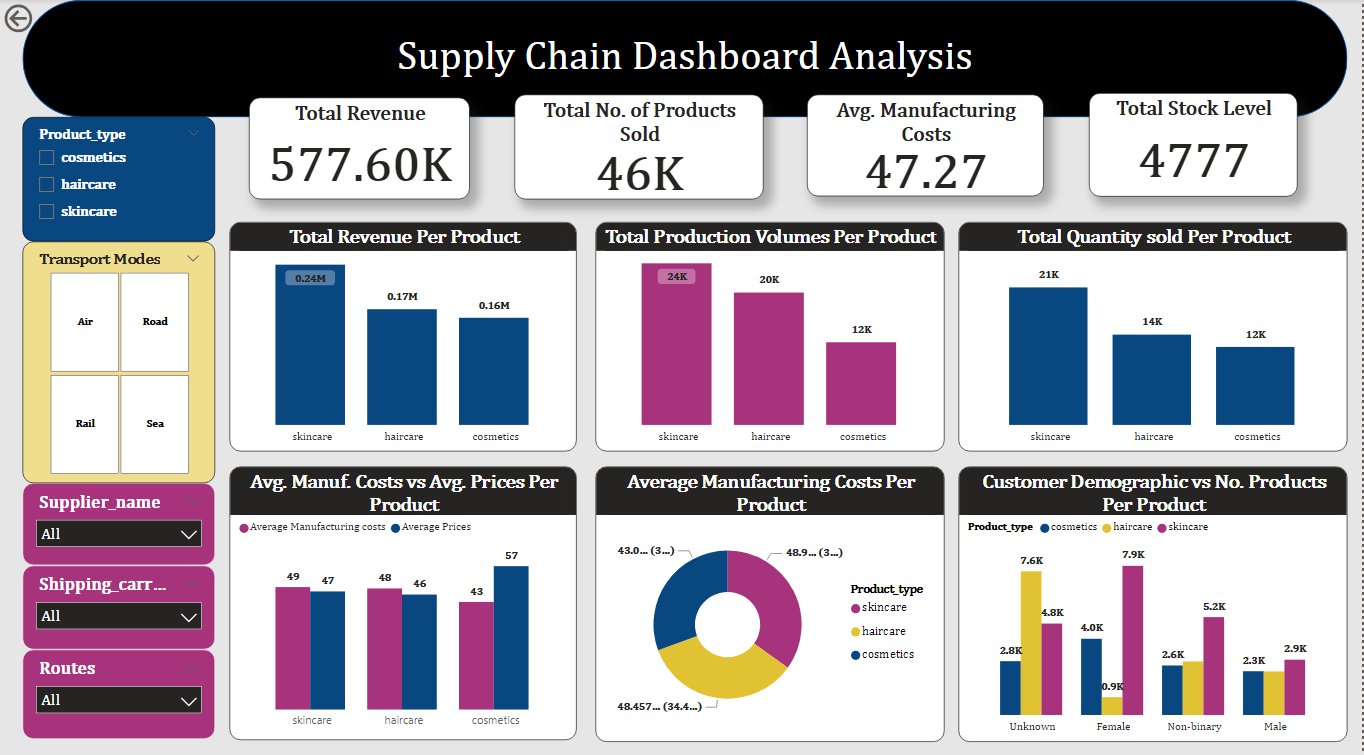

Layout of this report page (visuals, bound fields, positions):
{"tool":"powerbi","page":{"name":"Products","canvas":[1480,820],"ordinal":0},"visuals":[{"type":"shape","box":[24.8,0,1440,127.6],"z":0},{"type":"card","title":"Total Revenue","fields":{"Values":["Dax Measures.Total Revenue"]},"box":[270.5,106.7,240,110.5],"z":1000},{"type":"card","title":"Total No. of Products Sold","fields":{"Values":["Dax Measures.Total Quantity sold"]},"box":[558.7,102.9,270.5,114.3],"z":2000},{"type":"card","title":"Total Stock Level","fields":{"Values":["Dax Measures.Total Stock Level"]},"box":[1182.9,101,226.7,112.4],"z":3000},{"type":"slicer","fields":{"Values":["FactSales.Supplier_name"]},"box":[24.8,525.7,209.5,89.5],"z":4000},{"type":"slicer","fields":{"Values":["DimShipping.Shipping_carriers"]},"box":[24.8,615.2,209.5,91.4],"z":5000},{"type":"slicer","fields":{"Values":["DimShipping.Routes"]},"box":[24.8,706.7,209.5,97.1],"z":6000},{"type":"slicer","fields":{"Values":["DimShipping.Transportation_modes"]},"box":[24.8,262.9,209.5,262.9],"z":7000},{"type":"slicer","fields":{"Values":["DimProducts.Product_type"]},"box":[24.8,127.6,209.5,135.2],"z":8000},{"type":"card","title":"Avg. Manufacturing Costs","fields":{"Values":["Dax Measures.Total Manufacturing costs"]},"box":[877.5,102.9,257.1,110.5],"z":9000},{"type":"columnChart","title":"Total Revenue Per Product","fields":{"Category":["DimProducts.Product_type"],"Y":["Dax Measures.Total Revenue"]},"box":[249.5,241.9,377.1,249.5],"z":10000},{"type":"columnChart","title":"Total Production Volumes Per Product","fields":{"Category":["DimProducts.Product_type"],"Y":["Dax Measures.Total Production Volumes"]},"box":[647.6,241.9,379,249.5],"z":11000},{"type":"columnChart","title":"Total Quantity sold Per Product","fields":{"Category":["DimProducts.Product_type"],"Y":["Dax Measures.Total Quantity sold"]},"box":[1041.9,241.9,422.9,249.5],"z":12000},{"type":"clusteredColumnChart","title":"Customer Demographic vs No. Products Per Product ","fields":{"Category":["FactSales.Customer_demographics"],"Series":["DimProducts.Product_type"],"Y":["Dax Measures.Total Quantity sold"]},"box":[1041.9,506.7,422.9,299],"z":13000},{"type":"donutChart","title":"Average Manufacturing Costs Per Product","fields":{"Category":["DimProducts.Product_type"],"Y":["Dax Measures.Average Manufacturing costs"]},"box":[647.6,506.7,379,299],"z":14000},{"type":"clusteredColumnChart","title":"Avg. Manuf. Costs vs Avg. Prices Per Product","fields":{"Y":["Dax Measures.Average Manufacturing costs","Dax Measures.Average Prices"],"Category":["DimProducts.Product_type"]},"box":[249.5,506.7,377.1,297.1],"z":15000},{"type":"actionButton","box":[0,0,100,40],"z":15001}]}

Visuals, with their boxes in screenshot pixels (x1, y1, x2, y2), scaled from the page's 1480x820 canvas onto the 1364x755 screenshot:
shape: rect(23, 0, 1350, 117)
"Total Revenue" card: rect(249, 98, 470, 200)
"Total No. of Products Sold" card: rect(515, 95, 764, 200)
"Total Stock Level" card: rect(1090, 93, 1299, 196)
slicer - FactSales.Supplier_name: rect(23, 484, 216, 566)
slicer - DimShipping.Shipping_carriers: rect(23, 566, 216, 651)
slicer - DimShipping.Routes: rect(23, 651, 216, 740)
slicer - DimShipping.Transportation_modes: rect(23, 242, 216, 484)
slicer - DimProducts.Product_type: rect(23, 117, 216, 242)
"Avg. Manufacturing Costs" card: rect(809, 95, 1046, 196)
"Total Revenue Per Product" columnChart: rect(230, 223, 577, 452)
"Total Production Volumes Per Product" columnChart: rect(597, 223, 946, 452)
"Total Quantity sold Per Product" columnChart: rect(960, 223, 1350, 452)
"Customer Demographic vs No. Products Per Product " clusteredColumnChart: rect(960, 467, 1350, 742)
"Average Manufacturing Costs Per Product" donutChart: rect(597, 467, 946, 742)
"Avg. Manuf. Costs vs Avg. Prices Per Product" clusteredColumnChart: rect(230, 467, 577, 740)
actionButton: rect(0, 0, 92, 37)
